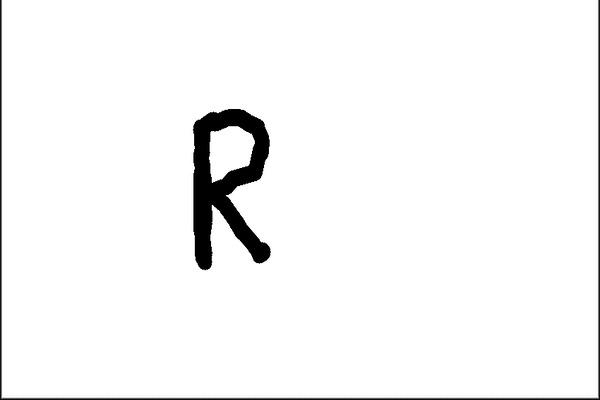R: (176, 104, 296, 278)
